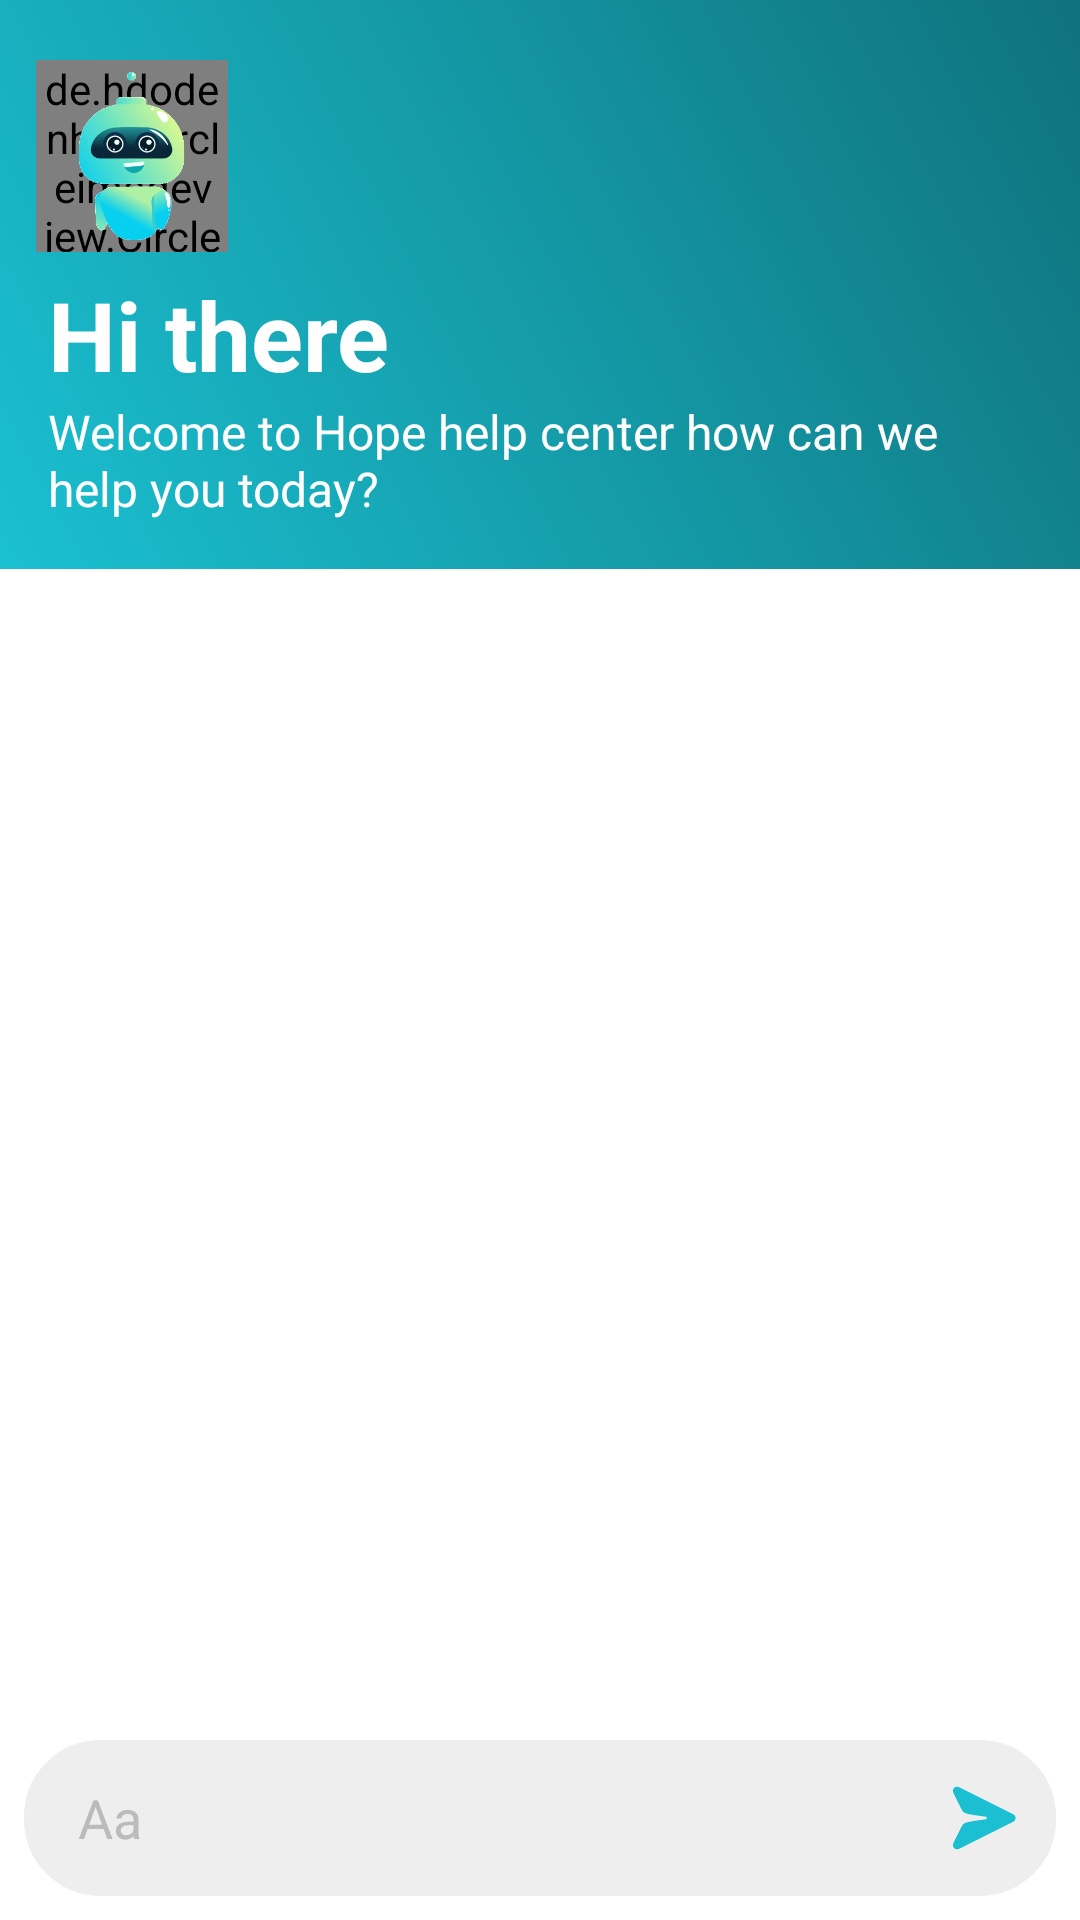

Screen size 1080*1920. Icon name, then its box in pixels as box=[x1, y1, x2, y2]:
send: box=[953, 1786, 1016, 1850]
